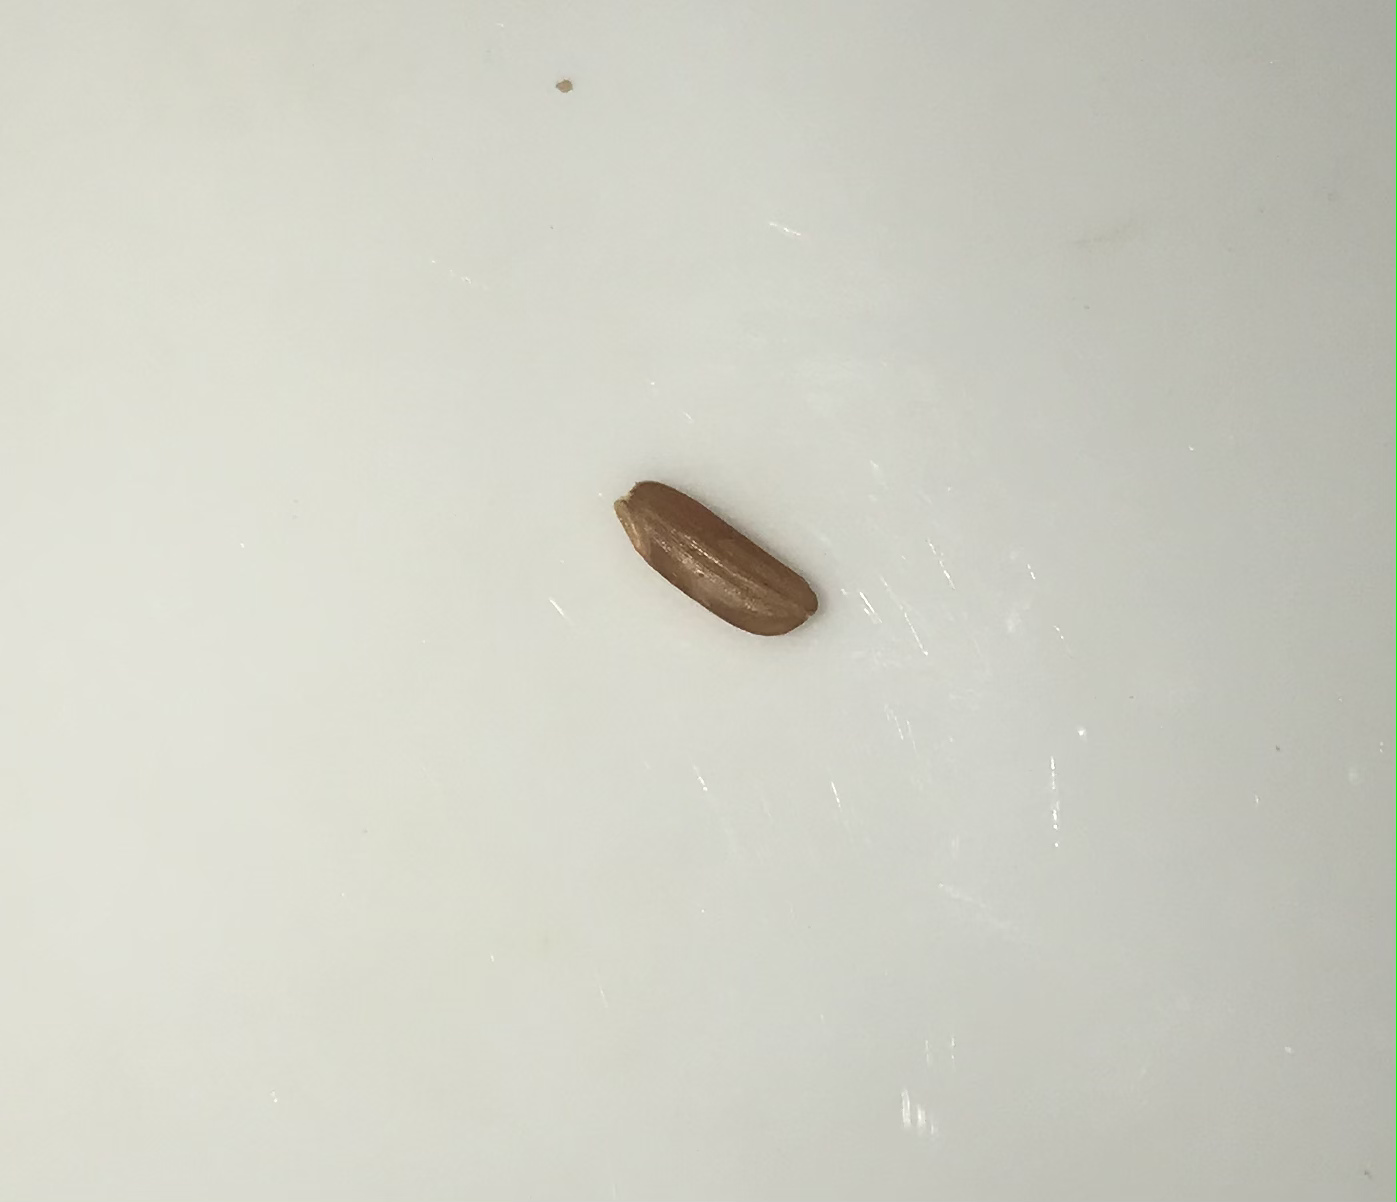Gao Lut Do: (608, 462, 823, 644)
